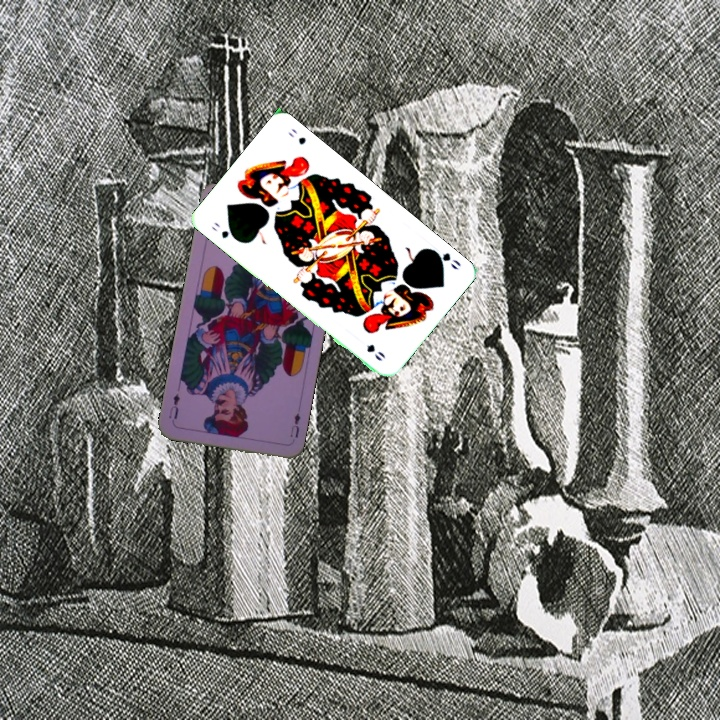EU: (286, 409, 303, 440)
GO: (426, 245, 464, 273), (208, 218, 241, 244)
